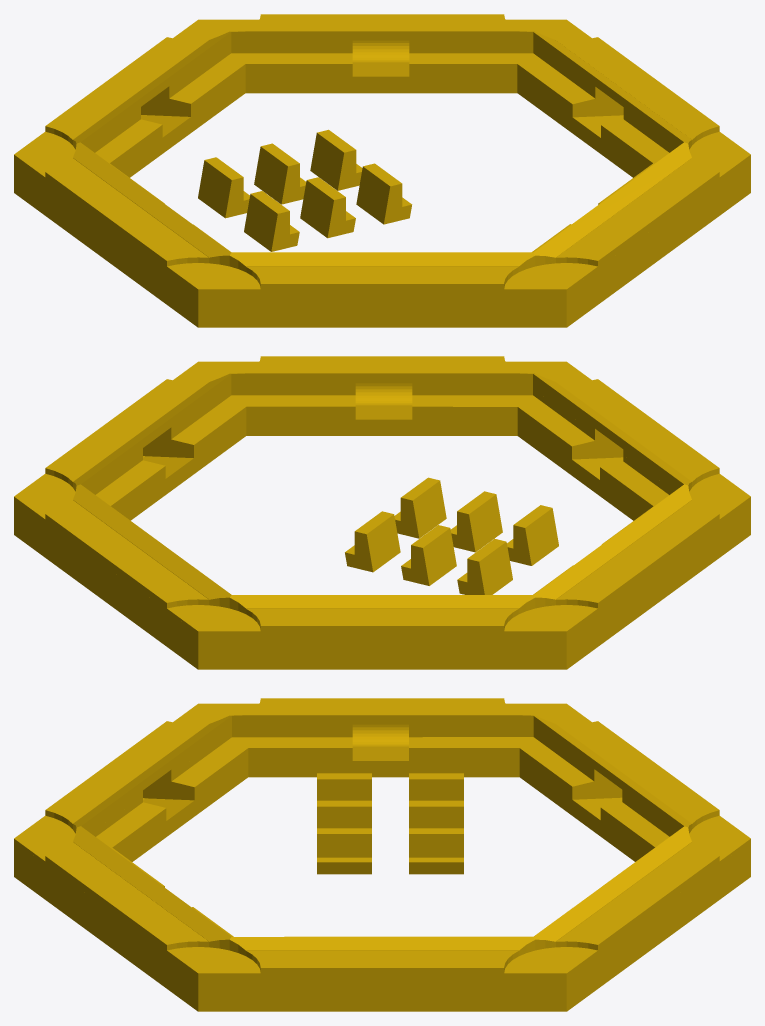
Rendered from base_desert.glb.
3 renders of one model, top to bottom at view 1: azimuth 30°, elevation 25°; view 2: azimuth 150°, elevation 25°; view 3: azimuth 270°, elevation 25°, orthographic.
Parts seen in each view (by area): view 1: base_desert; view 2: base_desert; view 3: base_desert.
Boxes of the visible parts, <box> form: base_desert: <box>14,14,750,327</box>; base_desert: <box>14,356,750,669</box>; base_desert: <box>14,698,750,1011</box>.
Bounding box in the file's own units: 79 × 6.95 × 91.22.
